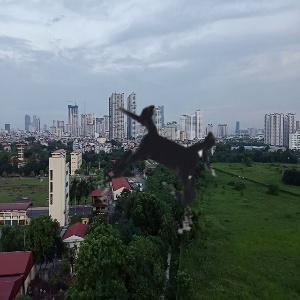drone: (54, 53, 277, 276)
